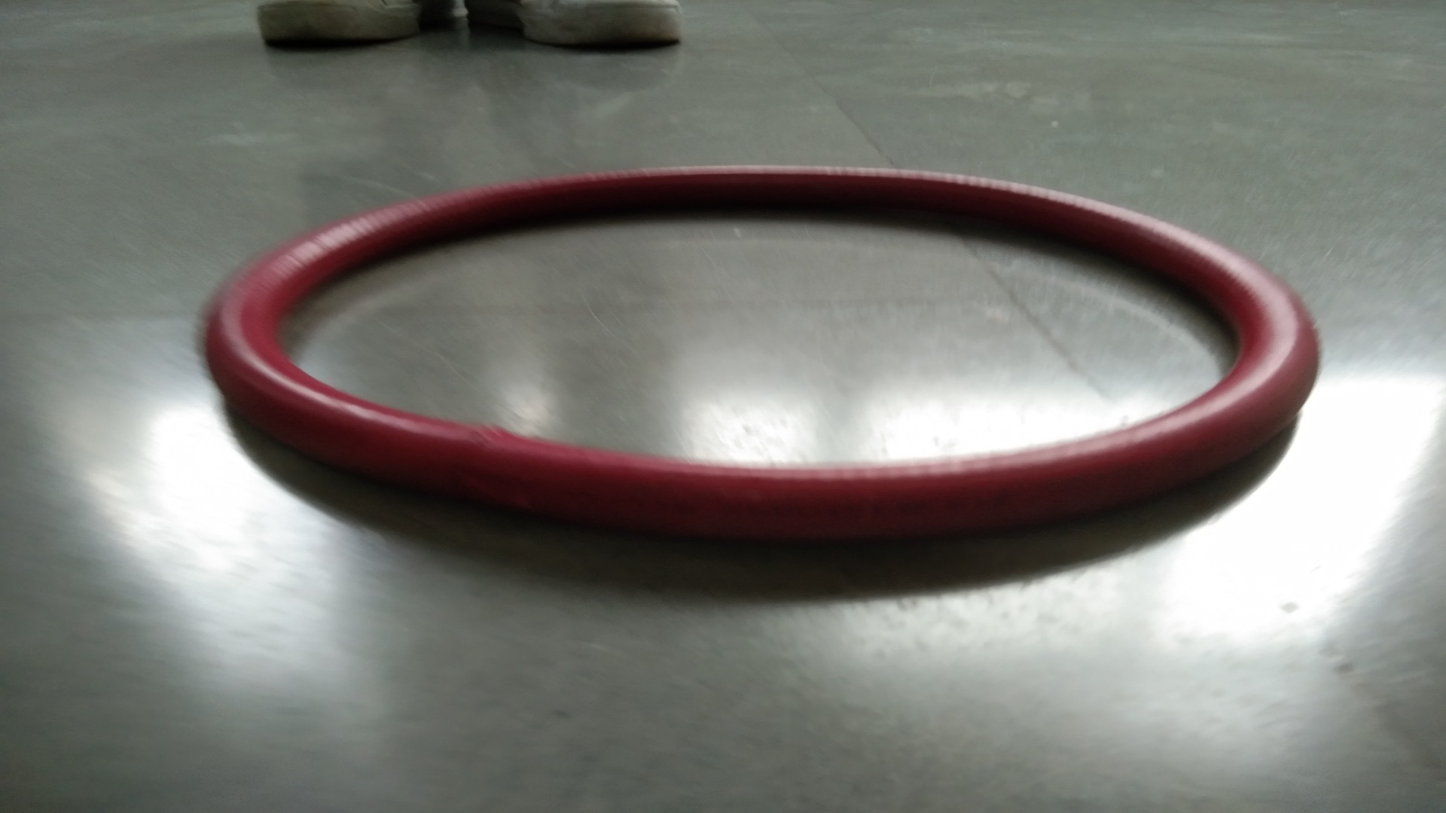Red ring: (212, 166, 1316, 537)
